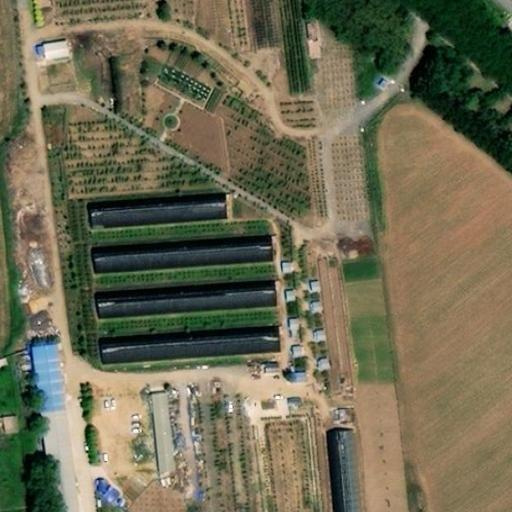building: (42, 428, 82, 512), (33, 357, 69, 432), (152, 403, 179, 488), (35, 40, 67, 58), (0, 409, 17, 433)
